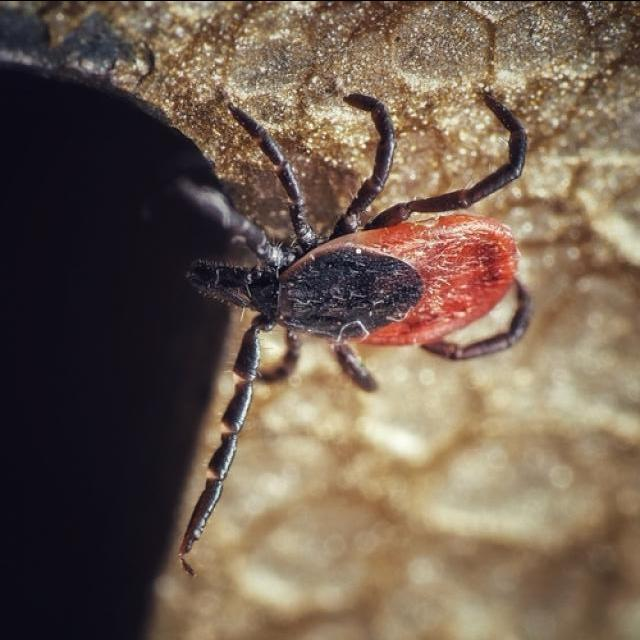Ixodes Ricinus-F: (177, 84, 531, 553)
